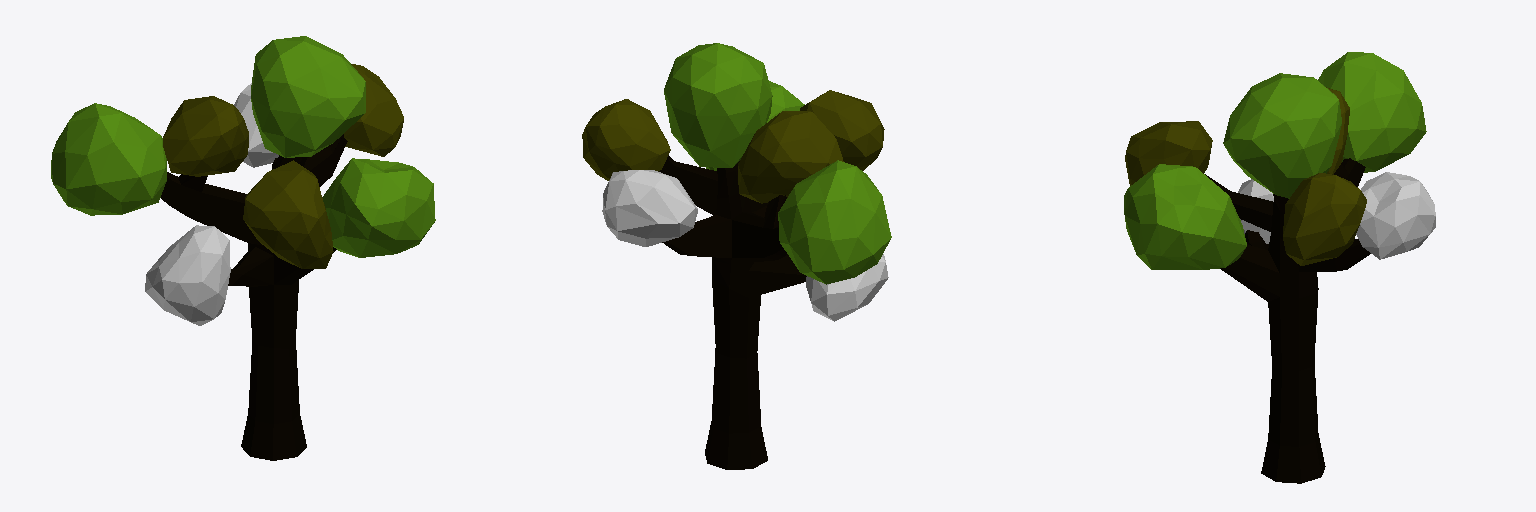
Rendered from tree2.obj.
3 views of the same model, side by side, from view 1: azimuth 30°, elevation 25°; view 2: azimuth 150°, elevation 25°; view 3: azimuth 270°, elevation 25° (orthographic).
Bounding box in the file's own units: 3.18 × 3.92 × 2.75.